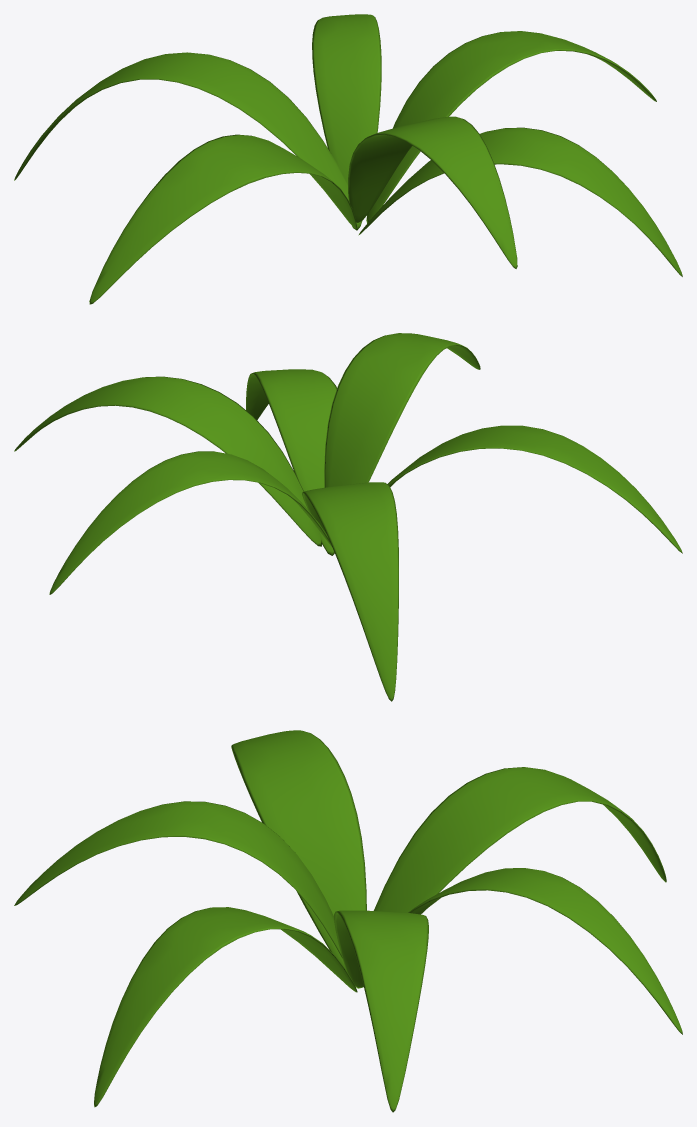
File: Beach_Grass_3.glb
3 views of the same model, one above another, from view 1: azimuth 30°, elevation 25°; view 2: azimuth 150°, elevation 25°; view 3: azimuth 270°, elevation 25° (orthographic). The views are drawn at different scales.
Parts seen in each view (by area): view 1: Object_4; view 2: Object_4; view 3: Object_4.
Boxes of the visible parts, box(x1,y1,x2,y2) form: Object_4: box(14, 14, 682, 304); Object_4: box(14, 333, 682, 701); Object_4: box(14, 730, 682, 1112).
Size of the model in its own units: 15.62 by 3.91 by 13.03.
